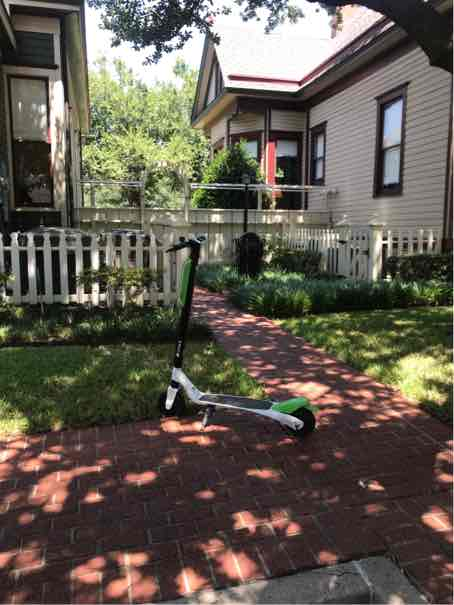scooter: (140, 230, 322, 443)
